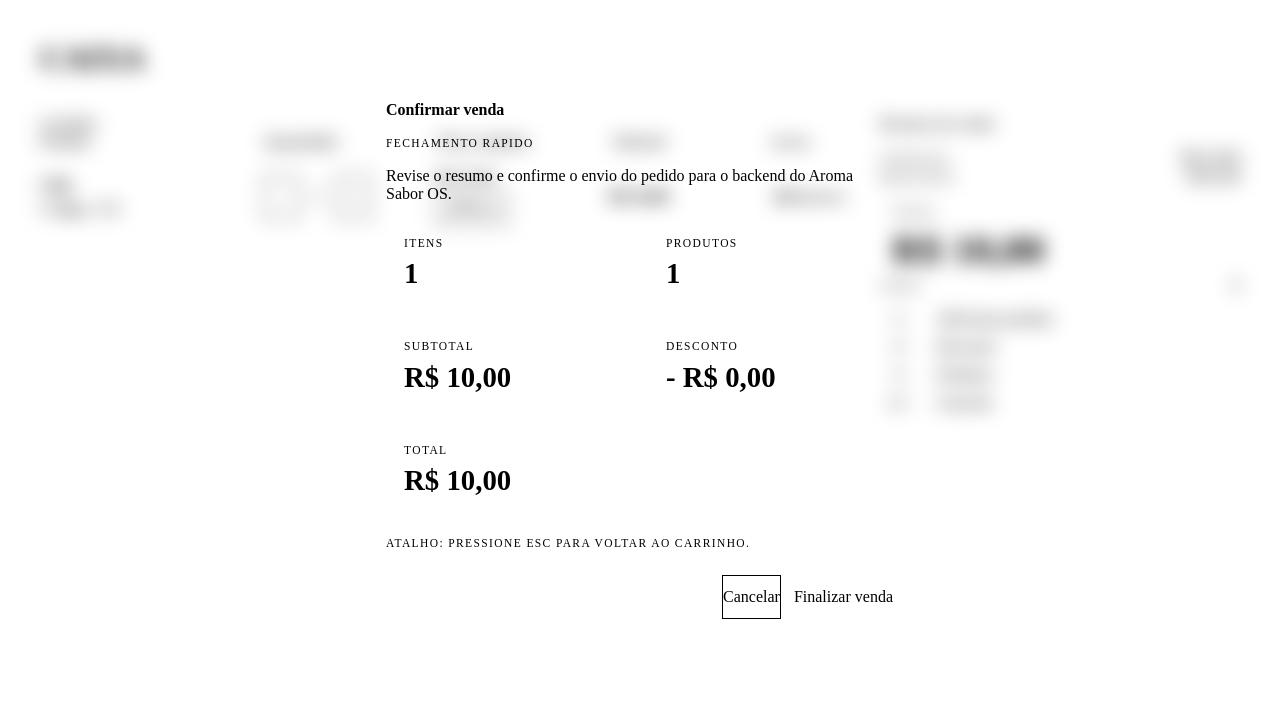
Test: CaixaPage checkout flow › fecha checkout ao cancelar
Click the button "Cancelar".
click(752, 597)  # box [722,575,781,619]
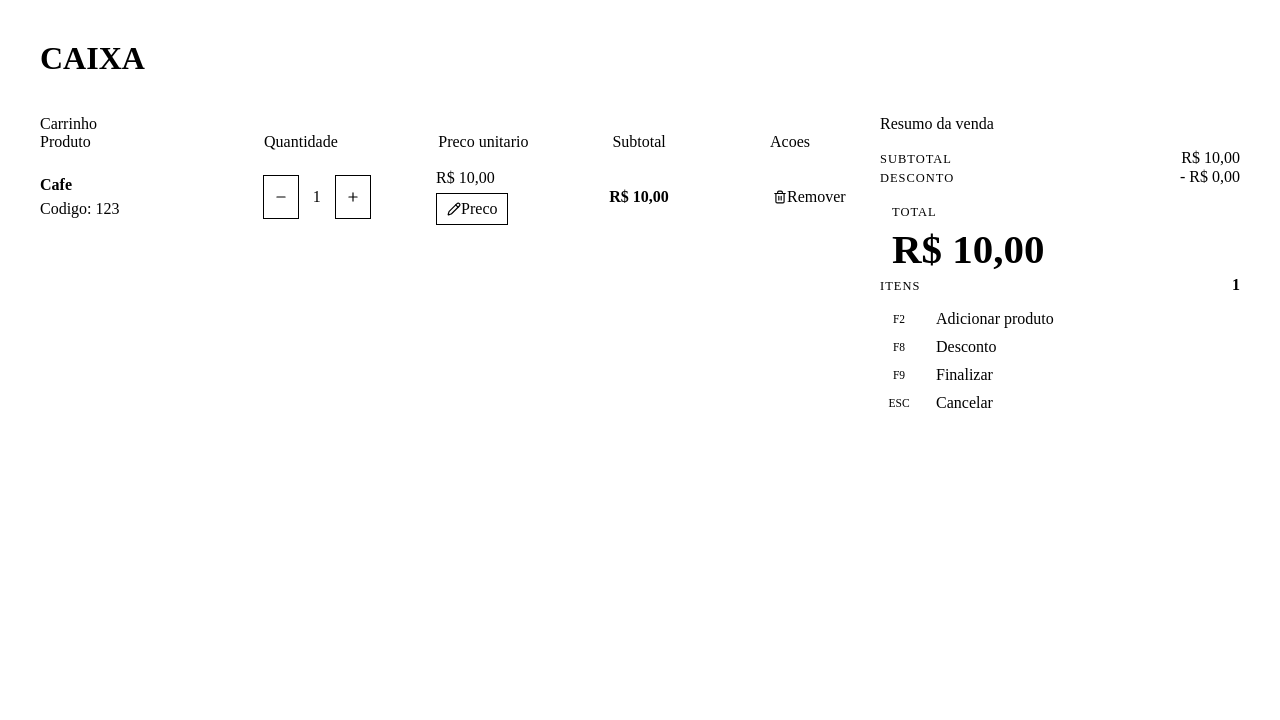
Expected: the text "Confirmar venda" is gone
